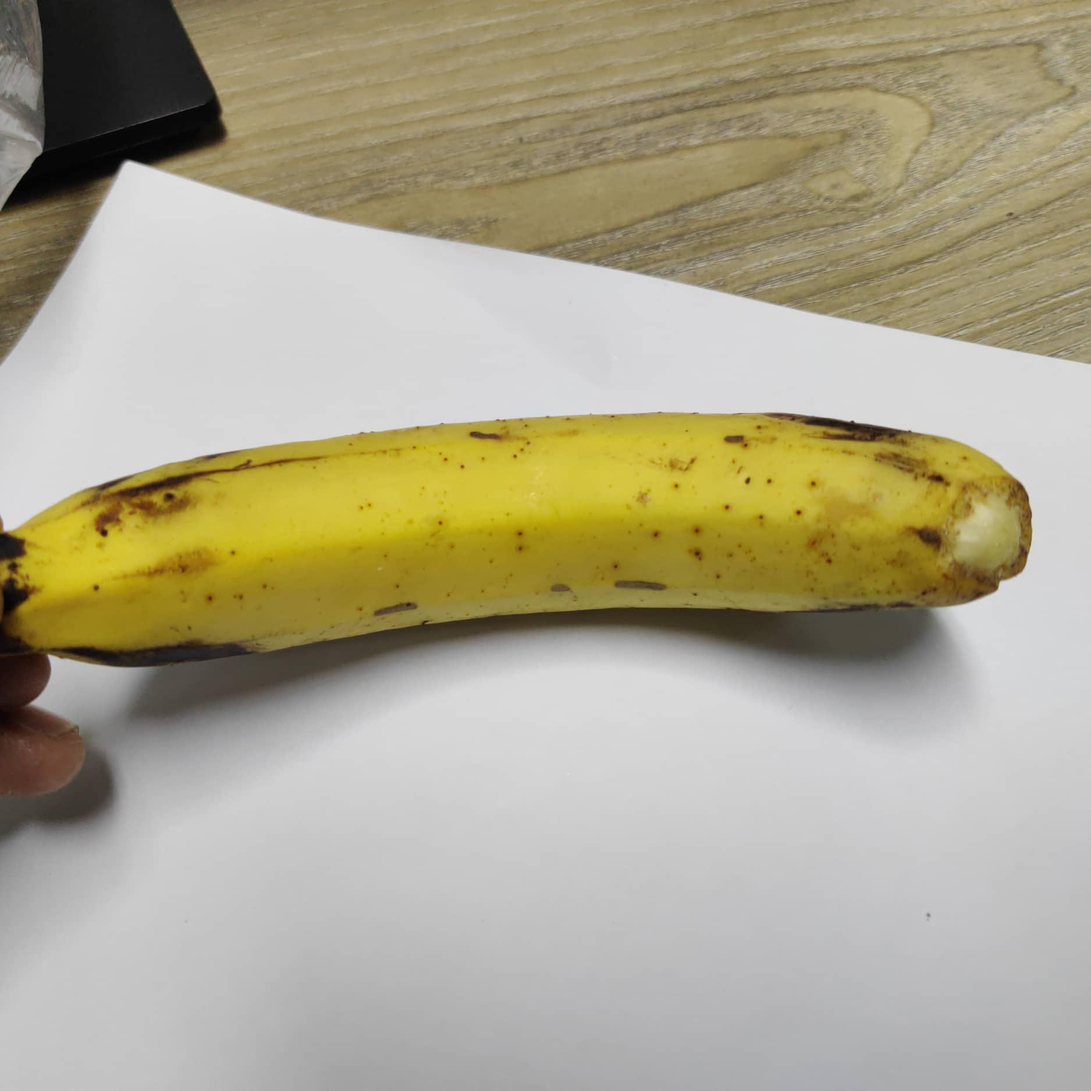Banana Ripe: (2, 321, 1062, 767)
